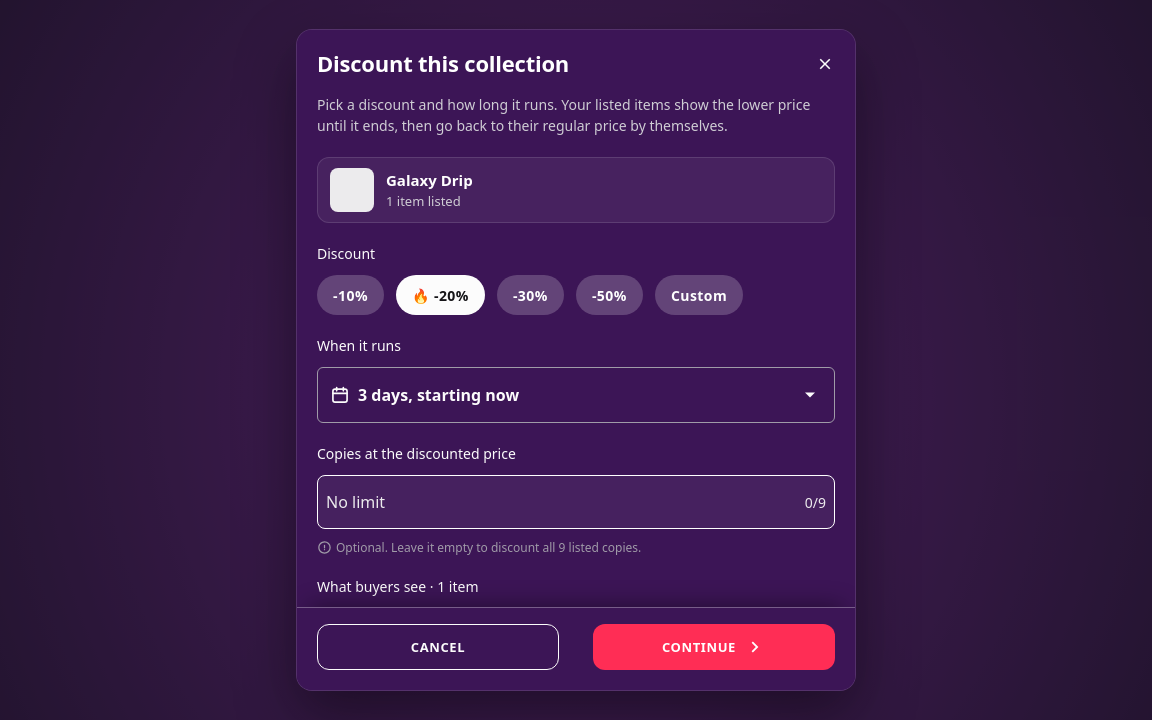
when a creator discounts a collection from the builder › should explain a wallet on another account or network
Click the button with test id "creator-sale-continue".
click(714, 647)  # box x1=593 y1=624 x2=835 y2=670
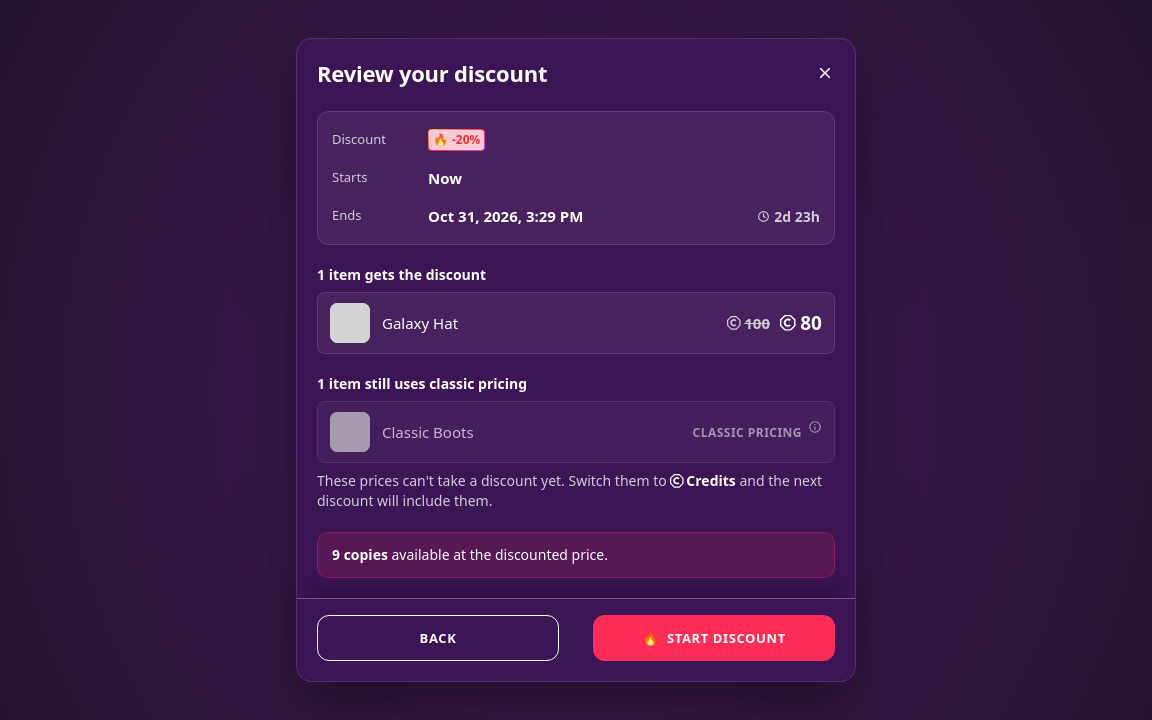
Click the button with test id "creator-sale-submit".
click(714, 638)  # box x1=593 y1=615 x2=835 y2=661
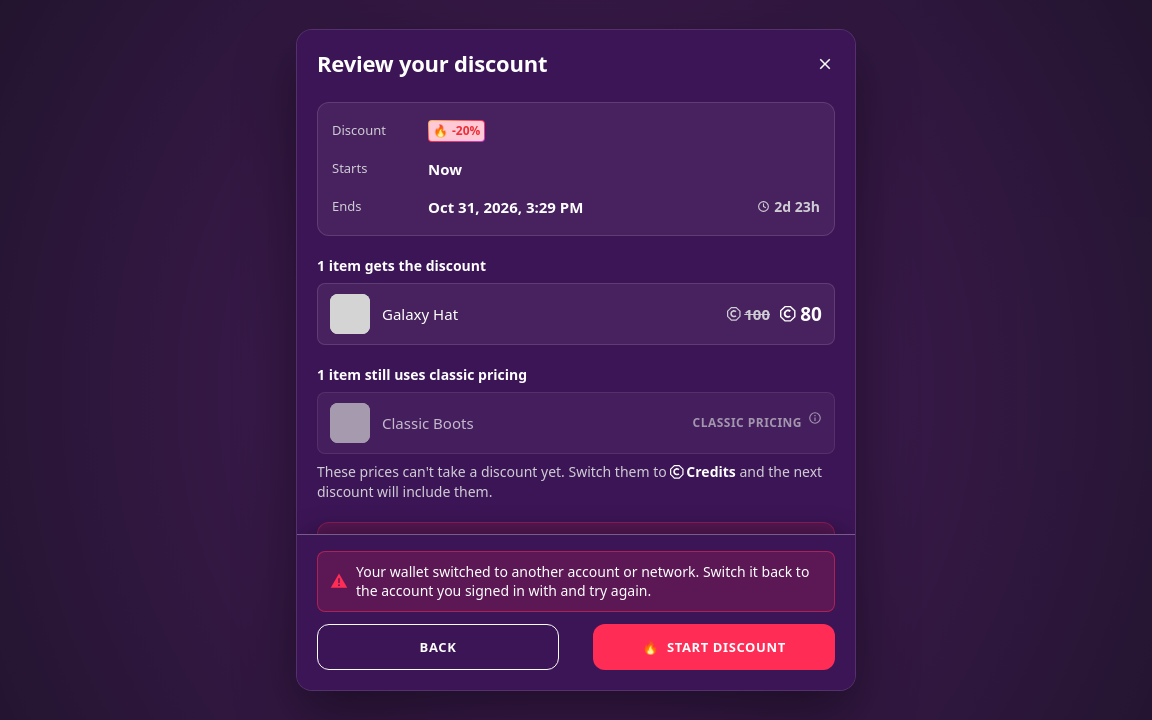
expect the message with test id "creator-sale-error" shows "another account or network": met, box x1=356 y1=562 x2=809 y2=601
